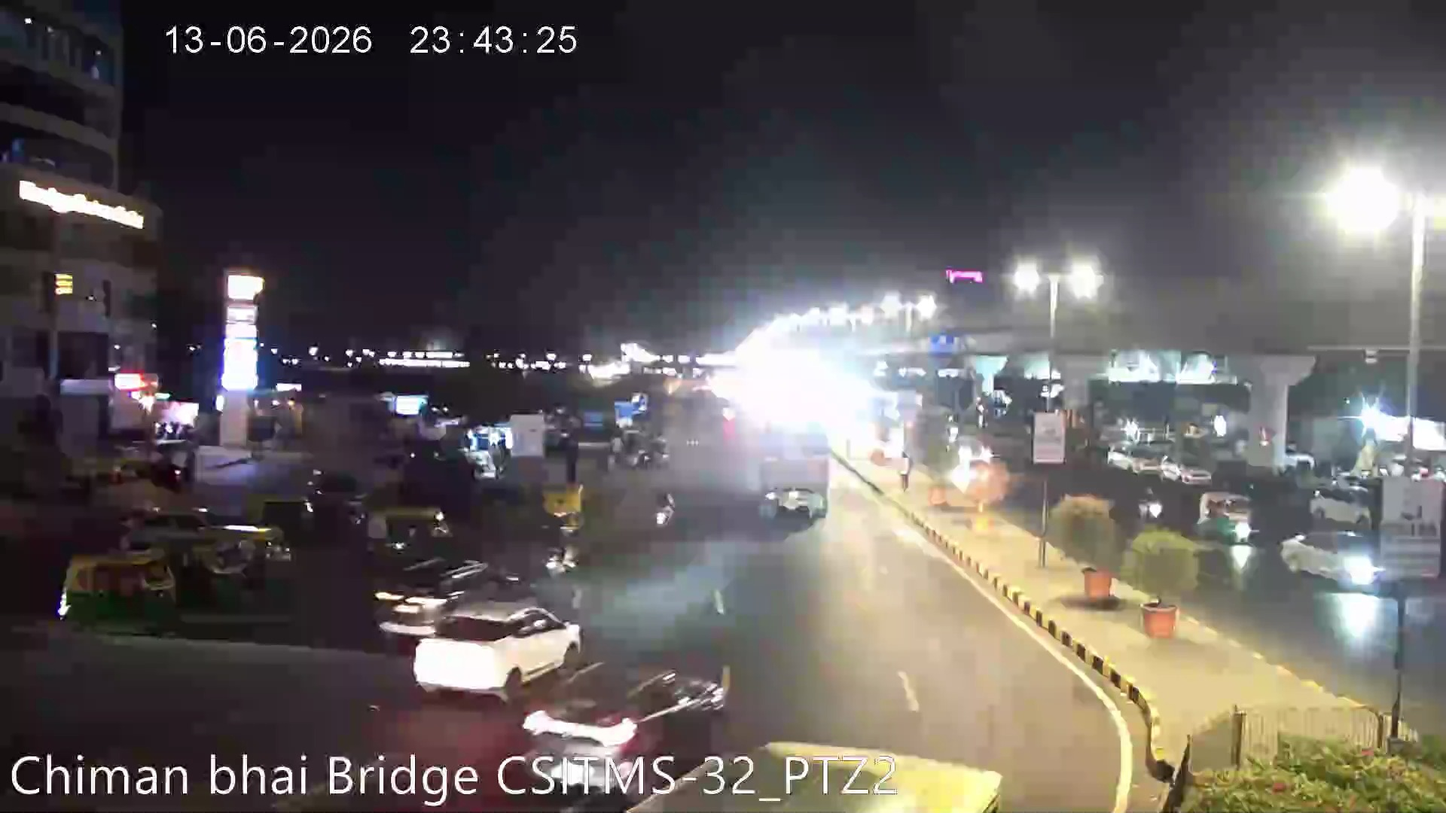auto_rickshaw: (50, 544, 182, 637), (130, 518, 260, 611), (195, 512, 301, 604), (361, 499, 454, 563), (1193, 488, 1257, 547), (539, 482, 587, 532)
car: (518, 663, 739, 777), (404, 596, 591, 697), (1278, 524, 1385, 597), (765, 480, 828, 526), (1105, 442, 1161, 476), (1161, 457, 1213, 484)
two_wheeler: (648, 486, 681, 536), (1136, 486, 1166, 528)
